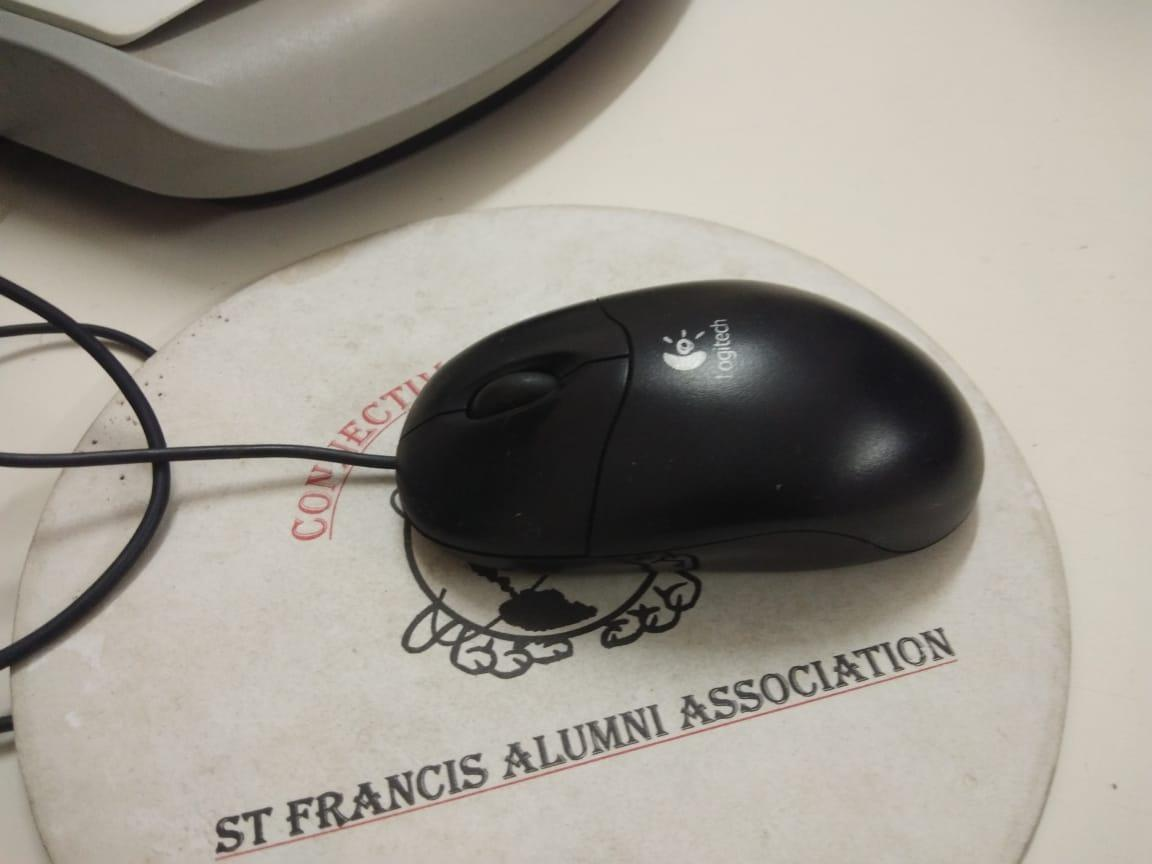mouse: (379, 261, 1013, 620)
